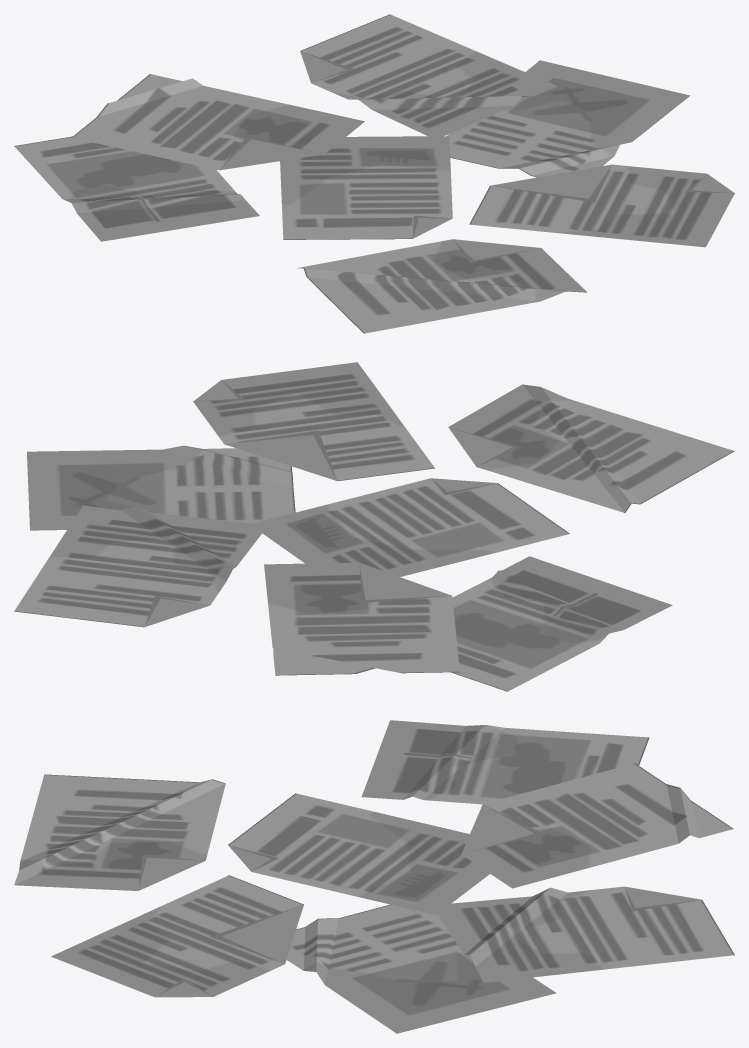
Rendered from Paper_02.fbx.
3 renders of one model, top to bottom at view 1: azimuth 30°, elevation 25°; view 2: azimuth 150°, elevation 25°; view 3: azimuth 270°, elevation 25°, orthographic. The views are drawn at different scales.
Visible parts, largest first — view 1: Paper_02; view 2: Paper_02; view 3: Paper_02.
Part boxes in pixels (x1,y1,x2,y2): Paper_02: (14, 14, 734, 333); Paper_02: (14, 362, 734, 691); Paper_02: (14, 720, 734, 1033).
Size of the model in its own units: 0.9336 by 0.0115 by 0.9092.
